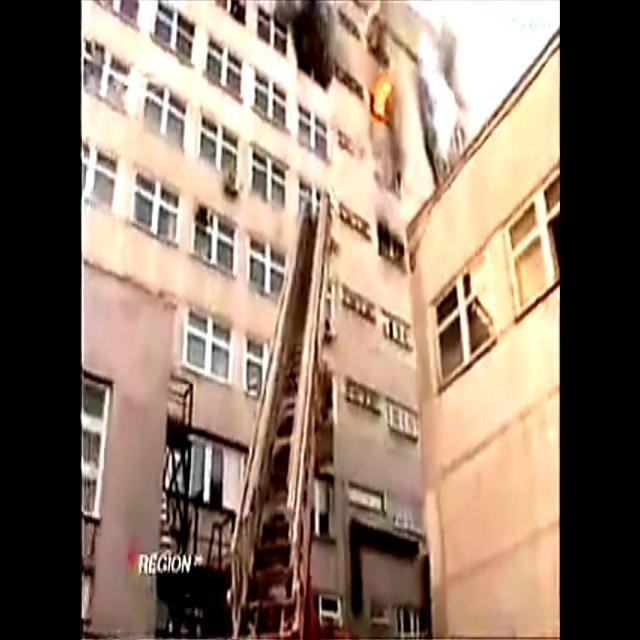Fire: (370, 76, 395, 122)
Smoke: (416, 12, 462, 170), (276, 0, 337, 92)
